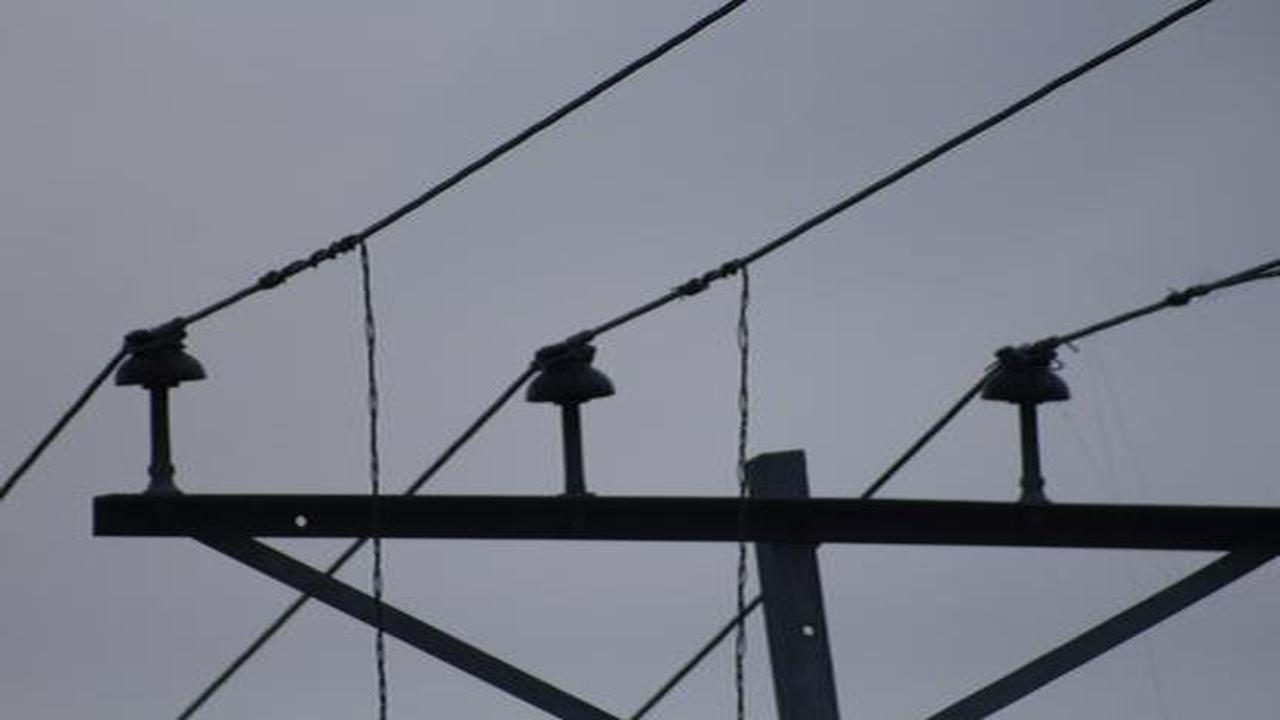insulator_pin: (520, 329, 623, 418), (975, 332, 1078, 414), (114, 317, 209, 396)
